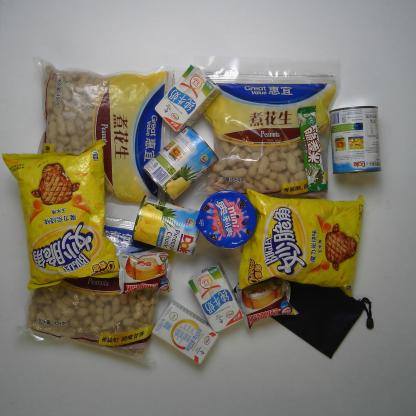Canned Food: (141, 124, 218, 201), (132, 193, 202, 256), (328, 105, 383, 176)
Chocolate: (294, 104, 330, 194)
Dessert: (195, 191, 257, 248), (233, 277, 300, 329), (116, 248, 172, 294)
Dried Food: (16, 198, 166, 368), (26, 57, 175, 207), (198, 57, 340, 200)
Milk: (154, 64, 220, 132), (151, 299, 219, 363), (188, 262, 243, 334)
Puffed Food: (0, 138, 122, 289), (235, 187, 365, 299)
Stationery: (246, 246, 376, 361)
